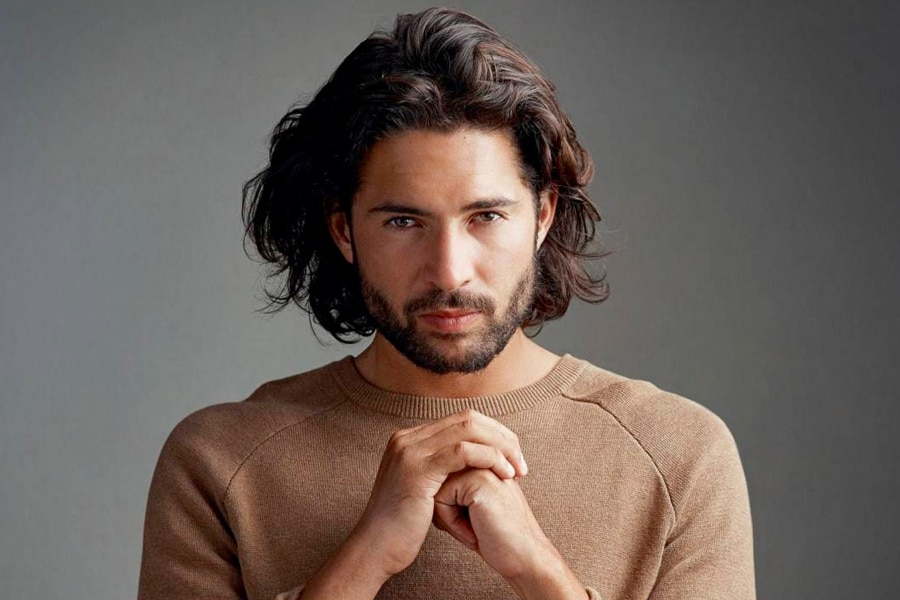Without Helmet: (231, 10, 614, 375)
